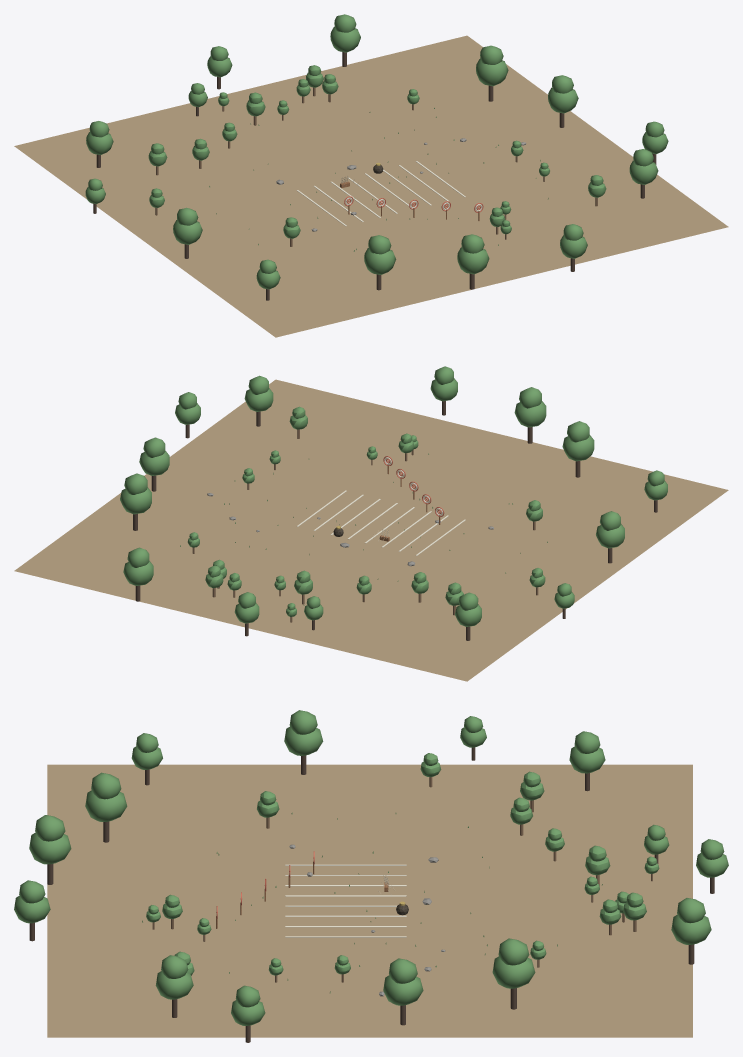
Rendered from adi-07-drona.glb.
3 views of the same model, one above another, from view 1: azimuth 30°, elevation 25°; view 2: azimuth 150°, elevation 25°; view 3: azimuth 270°, elevation 25° (orthographic). The views are drawn at different scales.
Parts seen in each view (by area): view 1: GEO-ground, GEO-tree-canopy.038, GEO-tree-canopy.056, GEO-tree-canopy.054, GEO-tree-canopy.036, GEO-tree-canopy.040, GEO-tree-canopy.050; view 2: GEO-ground, GEO-tree-canopy.038, GEO-tree-canopy.056, GEO-tree-canopy.054, GEO-tree-canopy.036, GEO-tree-canopy.040, GEO-tree-canopy.050; view 3: GEO-ground, GEO-tree-canopy.038, GEO-tree-canopy.056, GEO-tree-canopy.054, GEO-tree-canopy.036, GEO-tree-canopy.040, GEO-tree-canopy.050, GEO-tree-canopy.060, GEO-tree-canopy.058, GEO-tree-canopy.046, GEO-tree-canopy.039, GEO-tree-canopy.057 (+6 smaller).
Part boxes in pixels (x1,y1,x2,y2): GEO-ground: (14, 35, 728, 337); GEO-tree-canopy.038: (476, 58, 508, 86); GEO-tree-canopy.056: (457, 247, 489, 274); GEO-tree-canopy.054: (364, 248, 396, 274); GEO-tree-canopy.036: (548, 87, 578, 113); GEO-tree-canopy.040: (330, 26, 360, 52); GEO-tree-canopy.050: (173, 220, 202, 244); GEO-ground: (14, 379, 728, 681); GEO-tree-canopy.038: (120, 487, 151, 514); GEO-tree-canopy.056: (514, 401, 546, 427); GEO-tree-canopy.054: (562, 435, 594, 461); GEO-tree-canopy.036: (139, 451, 169, 475); GEO-tree-canopy.040: (123, 561, 153, 585); GEO-tree-canopy.050: (596, 524, 624, 548); GEO-ground: (47, 764, 692, 1037); GEO-tree-canopy.038: (492, 956, 535, 988); GEO-tree-canopy.056: (29, 832, 71, 864); GEO-tree-canopy.054: (85, 790, 127, 821); GEO-tree-canopy.036: (383, 975, 423, 1005); GEO-tree-canopy.040: (671, 914, 711, 944); GEO-tree-canopy.050: (284, 726, 323, 755); GEO-tree-canopy.060: (155, 971, 193, 999); GEO-tree-canopy.058: (14, 896, 50, 923); GEO-tree-canopy.046: (569, 746, 605, 773); GEO-tree-canopy.039: (498, 938, 529, 965); GEO-tree-canopy.057: (35, 815, 65, 841).
Size of the model in its own units: 173 by 19.21 by 177.
13 materials, 2 textured.
